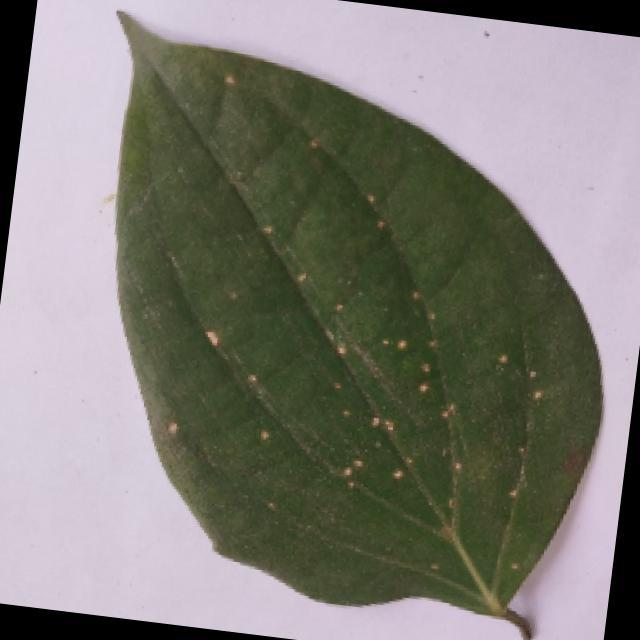pollu-disease: (51, 13, 640, 640)
